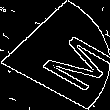M_NW: (8, 21, 102, 89)
